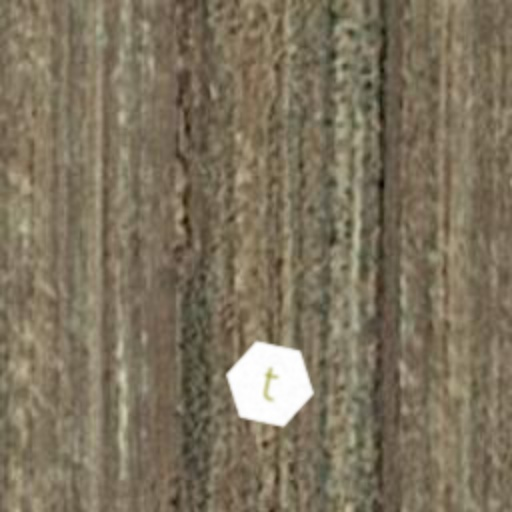hexagon: (216, 330, 324, 438)
